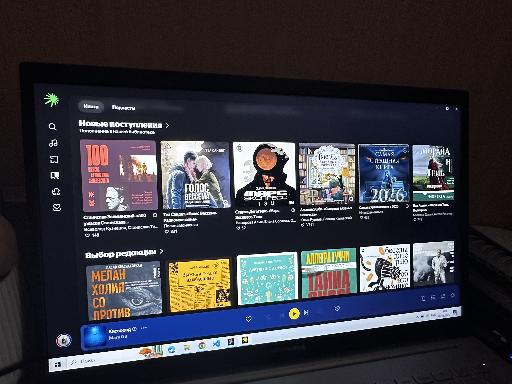yandexmusic: (35, 86, 463, 353)
